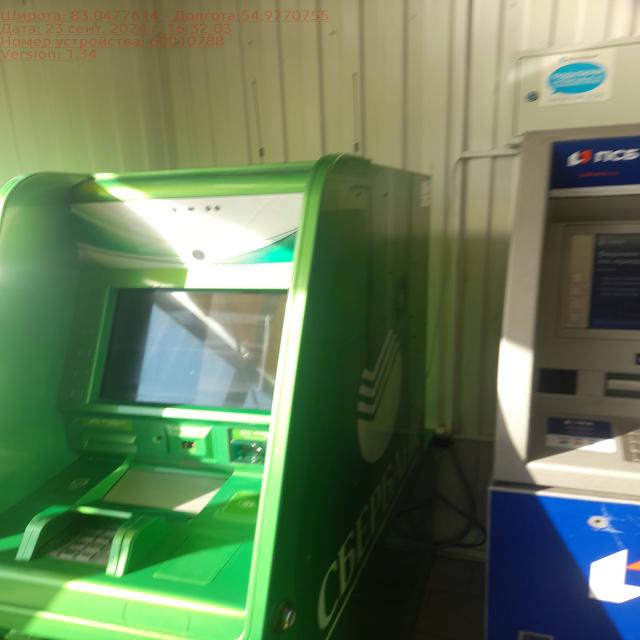bank: (0, 158, 429, 640)
